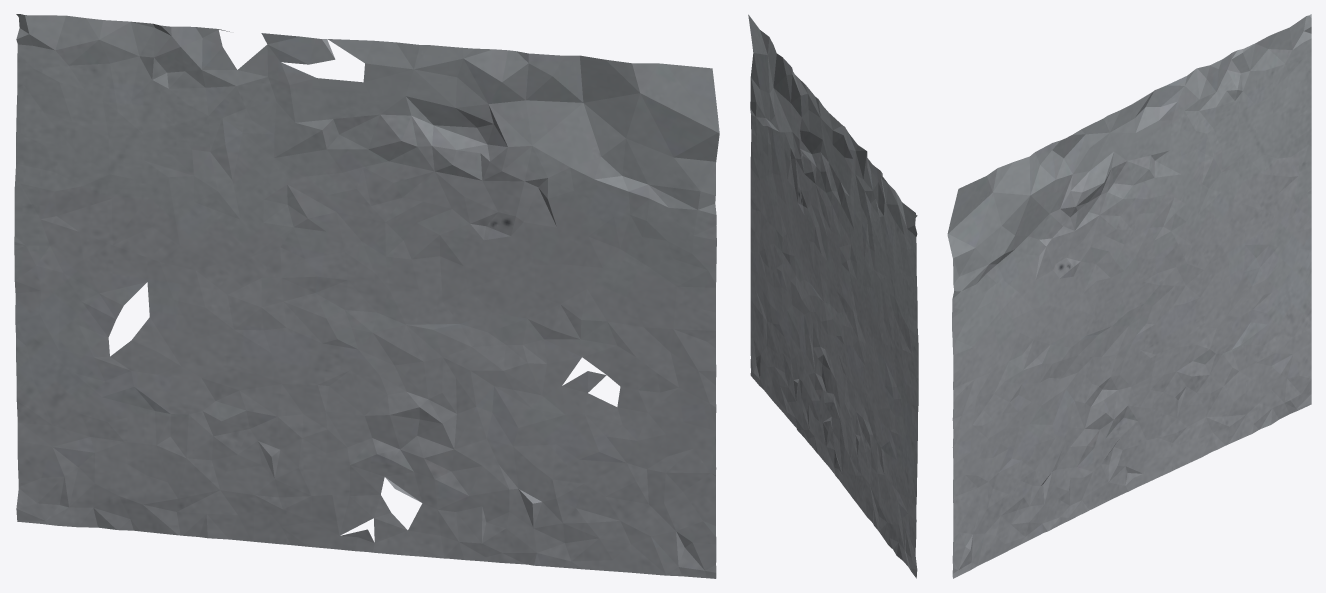
The picture shows the model from 3 angles, left to right: view 1: azimuth 30°, elevation 25°; view 2: azimuth 150°, elevation 25°; view 3: azimuth 270°, elevation 25°; orthographic projection. The views are drawn at different scales.
Bounding box in the file's own units: 0.8081 × 0.8374 × 0.7081.
Materials: 3 (3 with a texture image).
